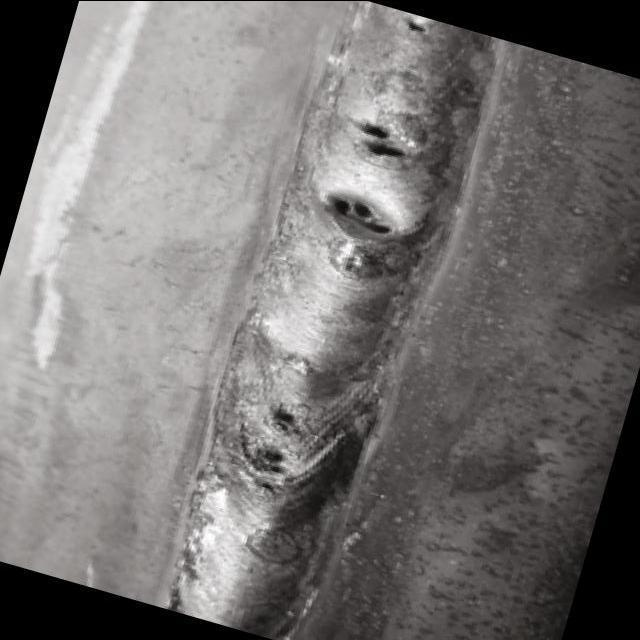defect: (313, 188, 415, 249), (337, 114, 423, 170), (233, 439, 298, 501), (257, 400, 313, 441), (400, 15, 440, 40)
